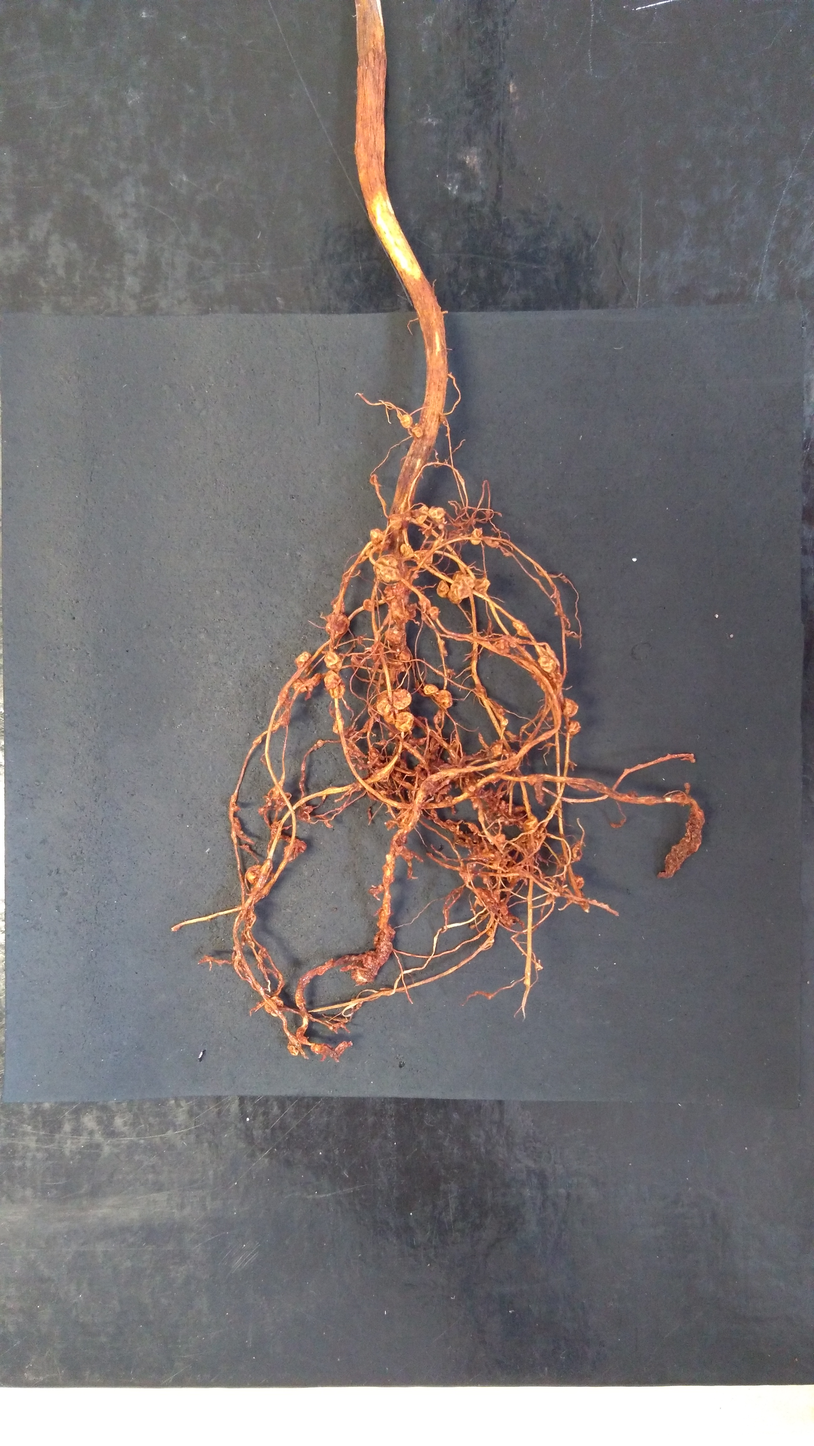nodule: (369, 553, 401, 583), (447, 574, 474, 606), (389, 598, 417, 627), (323, 668, 347, 700), (324, 611, 351, 637), (390, 687, 414, 711), (262, 995, 287, 1017), (394, 711, 415, 734), (537, 654, 558, 675), (433, 689, 454, 710), (323, 651, 343, 673), (375, 691, 392, 716), (413, 551, 434, 571), (473, 575, 492, 597), (293, 650, 313, 670), (383, 626, 404, 645), (562, 696, 580, 718), (245, 863, 263, 885), (410, 504, 429, 524), (512, 620, 531, 638), (566, 719, 584, 737), (368, 527, 385, 545), (427, 505, 447, 520), (436, 578, 450, 599), (286, 1036, 300, 1057), (468, 527, 483, 546), (331, 716, 346, 734), (523, 817, 538, 834), (388, 515, 403, 531), (506, 755, 522, 770), (483, 535, 500, 549), (568, 875, 585, 889), (491, 638, 510, 650), (399, 413, 413, 429), (534, 645, 551, 657), (422, 683, 439, 695), (399, 542, 412, 557), (362, 597, 374, 613), (428, 605, 440, 620), (490, 744, 503, 757), (411, 426, 423, 439), (312, 672, 321, 687), (494, 833, 506, 844), (398, 651, 412, 660), (316, 739, 325, 747), (357, 635, 363, 643)
